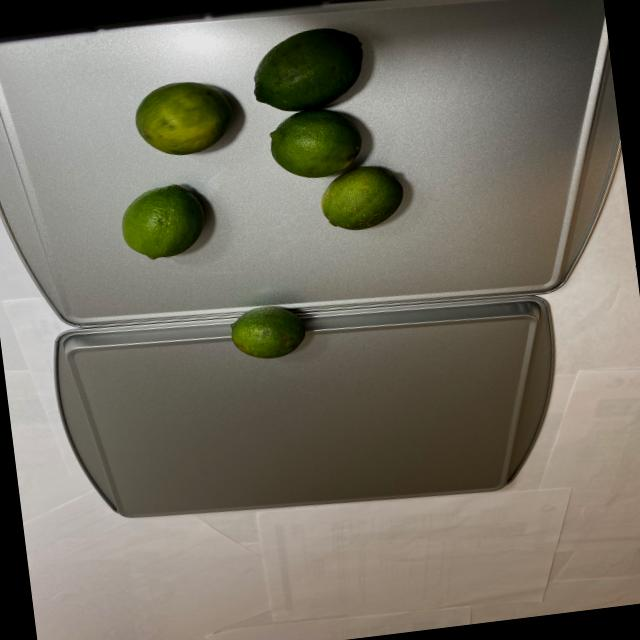lemon: (93, 17, 433, 266), (225, 296, 315, 364)
